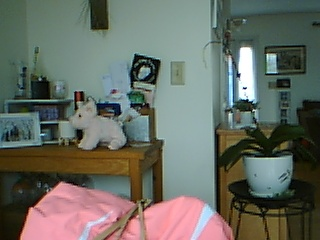piggy: (69, 97, 128, 151)
